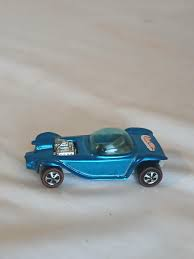Car: (24, 128, 168, 188)
